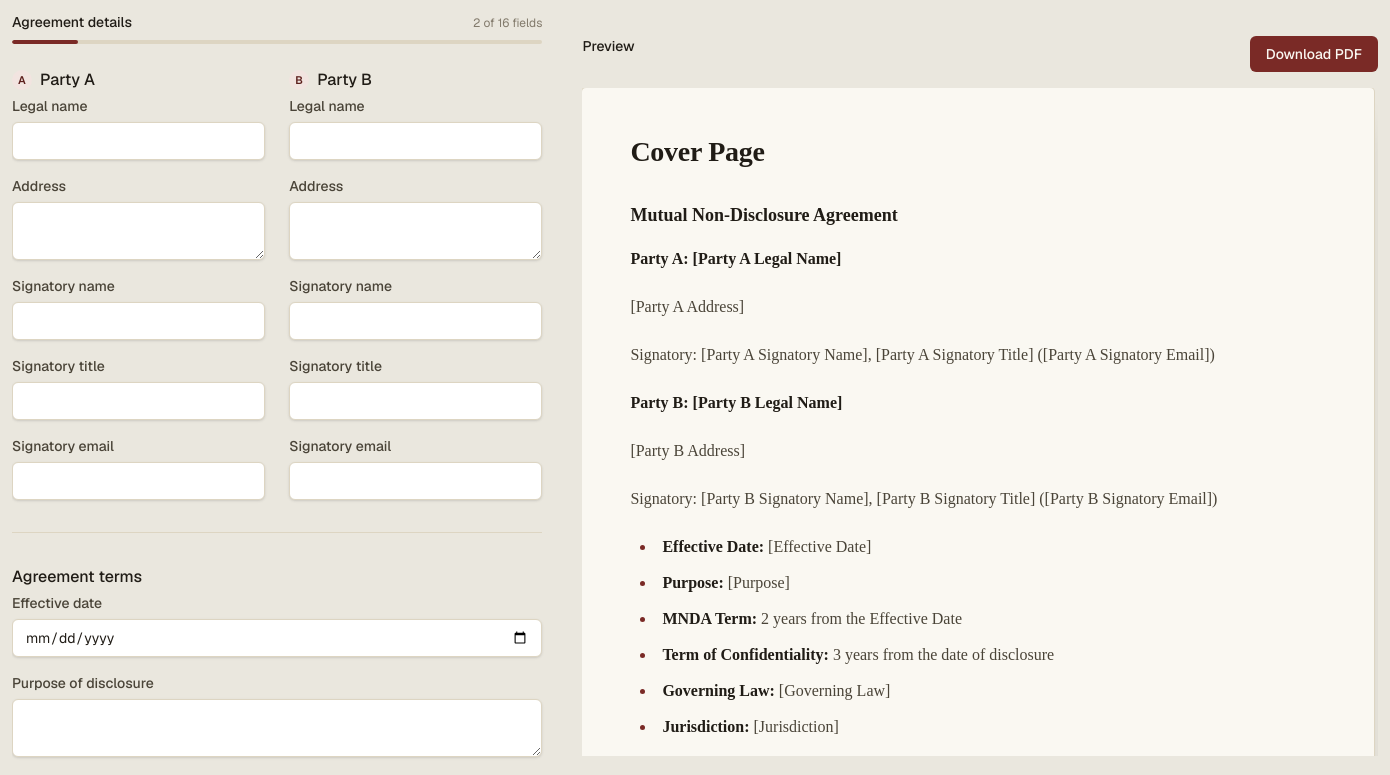
Scenario: NdaBuilder › updates the preview and the progress count as the user fills in fields
This screenshot has width=1390, height=775.
Type "Acme Robotics, Inc." into the 1st field labelled "Legal name" at (139, 141), box [12,122,265,160]
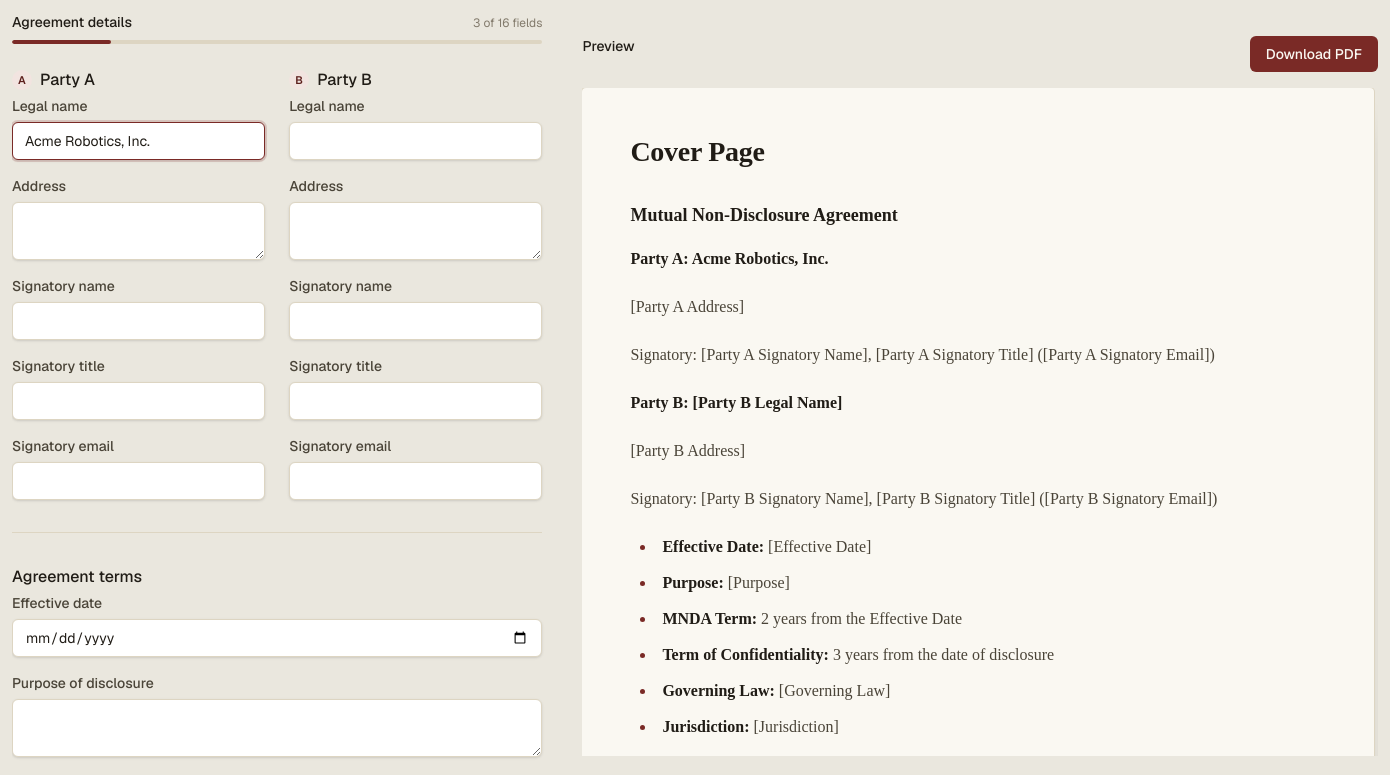
Expected: the text "3 of 16 fields" is shown, [473,15,542,31]
Expected: the text "Party A: Acme Robotics, Inc." is shown, [630,250,829,267]
Expected: the text "[Party A Legal Name]" is gone
